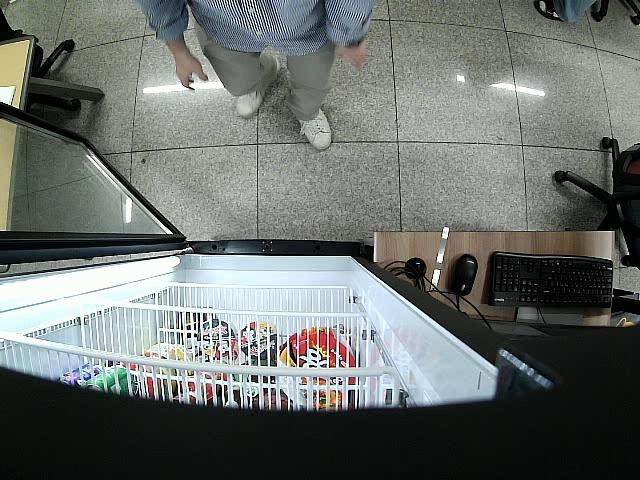00_hand: (173, 49, 210, 93), (336, 36, 370, 71)
